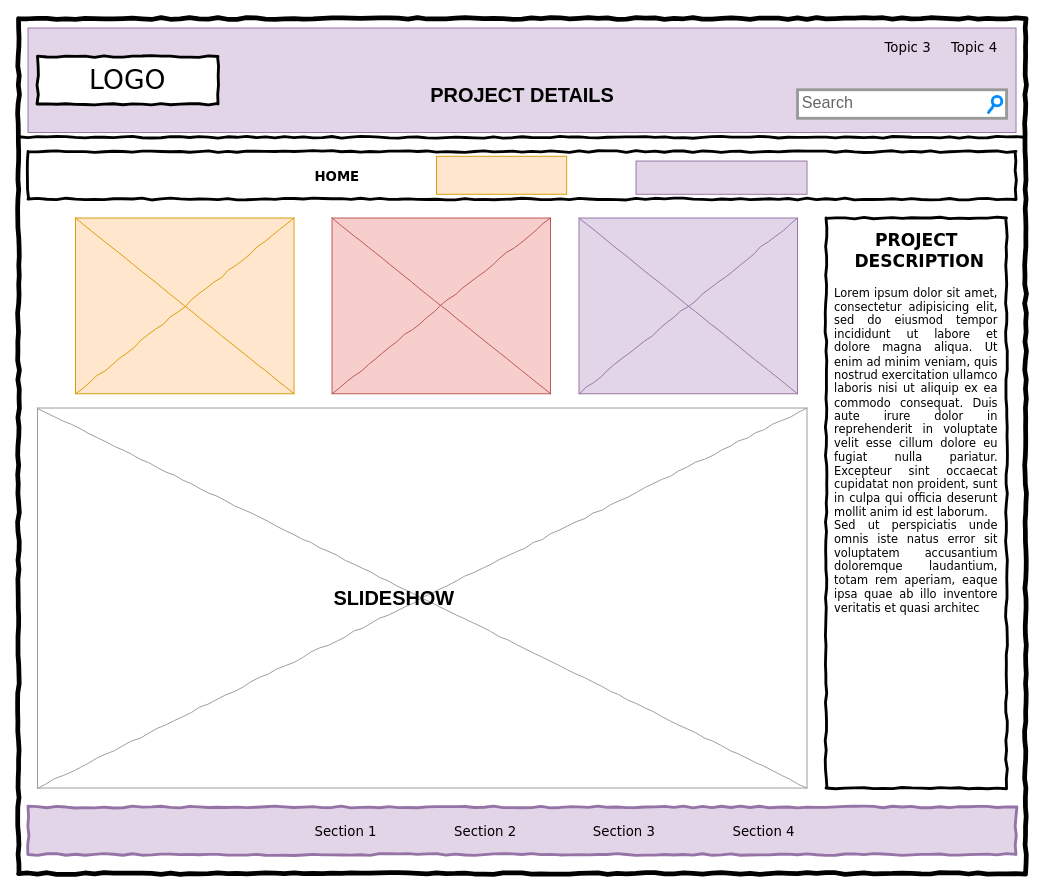
The diagram is 1044 pixels wide and 892 high, and some of its shapes have lost their labels. The centre of each missing label's shape, as x and y in pixels:
"ARCHITECTURE" belongs at (501,174).
"PROJECT DETAILLS" belongs at (721,177).
